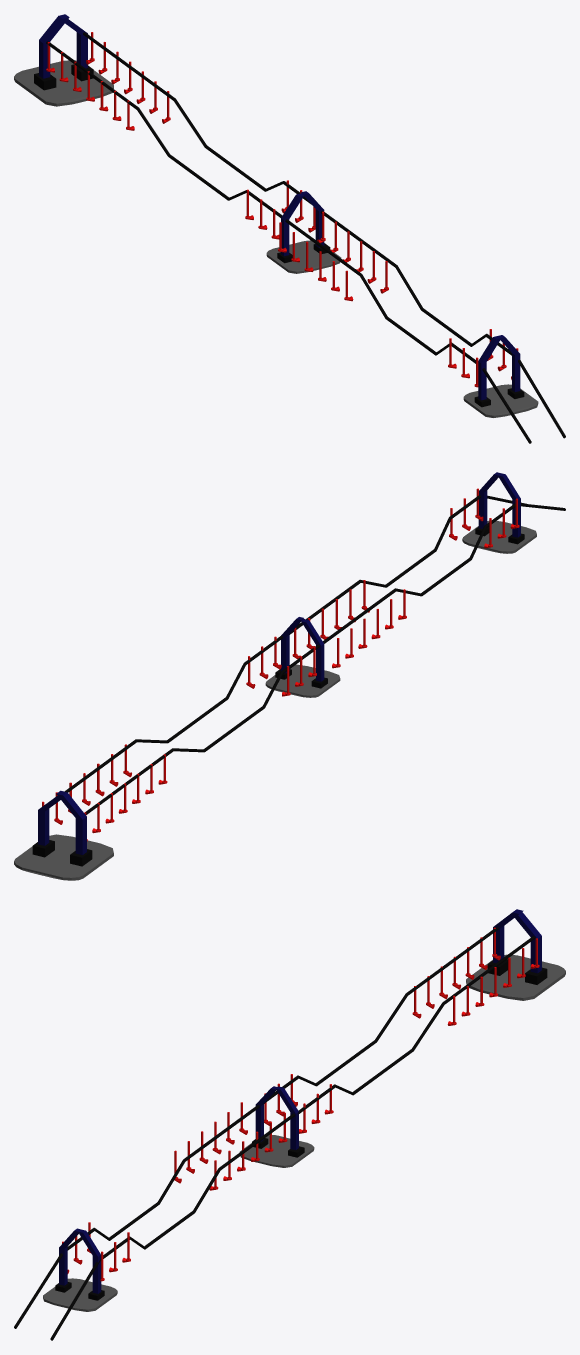
File: FrankH.BeckettBridge.fbx
3 renders of one model, top to bottom at view 1: azimuth 30°, elevation 25°; view 2: azimuth 150°, elevation 25°; view 3: azimuth 330°, elevation 25°, orthographic.
Visible parts, largest first — view 1: WestInsburyBridgePier, StraitofWesteria, SaintMary'sBridgePier, FrankH.BeckettCables, FrankH.BeckettCables.003, FrankH.BeckettCables.005, FrankH.BeckettCables.004; view 2: WestInsburyBridgePier, StraitofWesteria, SaintMary'sBridgePier, FrankH.BeckettCables.005, FrankH.BeckettCables, FrankH.BeckettCables.004, FrankH.BeckettCables.003; view 3: WestInsburyBridgePier, StraitofWesteria, SaintMary'sBridgePier, FrankH.BeckettCables.003, FrankH.BeckettCables, FrankH.BeckettCables.005, FrankH.BeckettCables.004.
Boxes of the visible parts, x1,y1,x2,y2 form: WestInsburyBridgePier: (14, 14, 311, 217); StraitofWesteria: (266, 191, 565, 443); SaintMary'sBridgePier: (463, 335, 538, 417); FrankH.BeckettCables: (46, 42, 134, 130); FrankH.BeckettCables.003: (86, 32, 170, 123); FrankH.BeckettCables.005: (278, 222, 353, 301); FrankH.BeckettCables.004: (317, 211, 388, 293); WestInsburyBridgePier: (14, 635, 319, 880); StraitofWesteria: (265, 495, 565, 697); SaintMary'sBridgePier: (462, 472, 536, 553); FrankH.BeckettCables.005: (332, 589, 406, 668); FrankH.BeckettCables: (84, 754, 167, 841); FrankH.BeckettCables.004: (292, 580, 369, 659); FrankH.BeckettCables.003: (42, 744, 131, 824); WestInsburyBridgePier: (264, 909, 565, 1114); StraitofWesteria: (14, 1086, 314, 1340); SaintMary'sBridgePier: (43, 1228, 117, 1311); FrankH.BeckettCables.003: (447, 938, 539, 1025); FrankH.BeckettCables: (412, 927, 500, 1018); FrankH.BeckettCables.005: (174, 1102, 247, 1183); FrankH.BeckettCables.004: (209, 1112, 287, 1190).
Bounding box in the file's own units: 15882 × 15948 × 204219.
